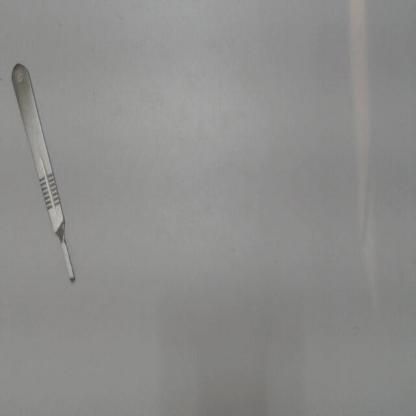No.4 BP Handle: (8, 59, 80, 287)
